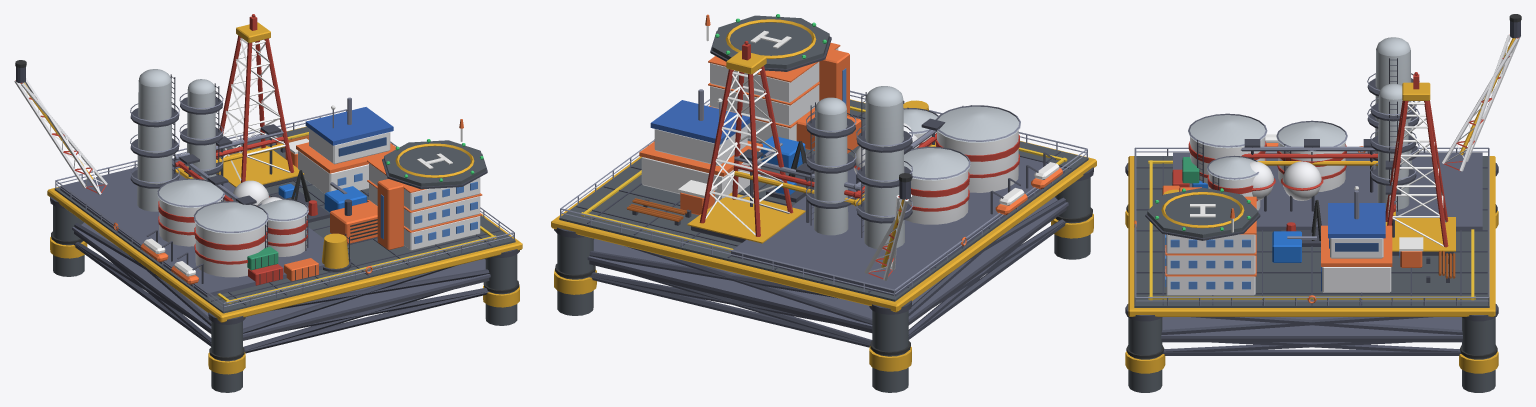
The model's file is oil-refinery.glb.
The picture shows the model from 3 angles, left to right: view 1: azimuth 30°, elevation 25°; view 2: azimuth 150°, elevation 25°; view 3: azimuth 270°, elevation 25°; orthographic projection. The views are drawn at different scales.
Parts seen in each view (by area): view 1: model; view 2: model; view 3: model.
Part boxes in pixels (x1,y1,x2,y2): model: (14,14,522,392); model: (551,14,1096,392); model: (1125,14,1521,392).
Size of the model in its own units: 3.98 by 2.81 by 3.99.
Materials: 1 (1 with a texture image).
